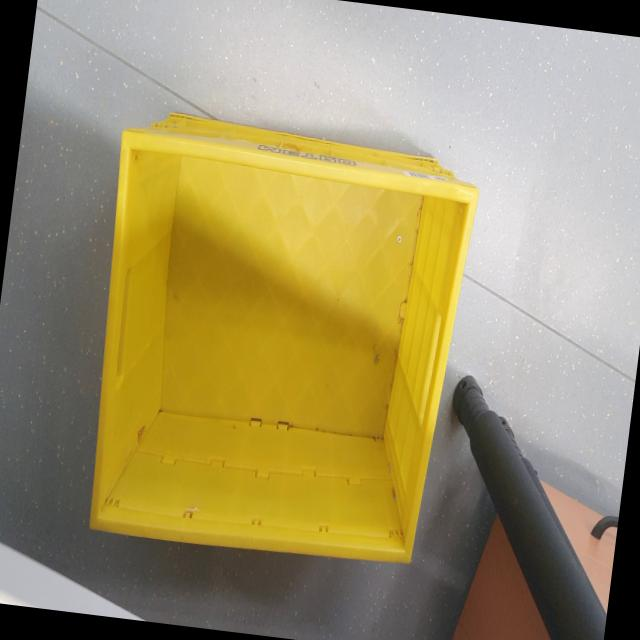box: (66, 86, 489, 579)
